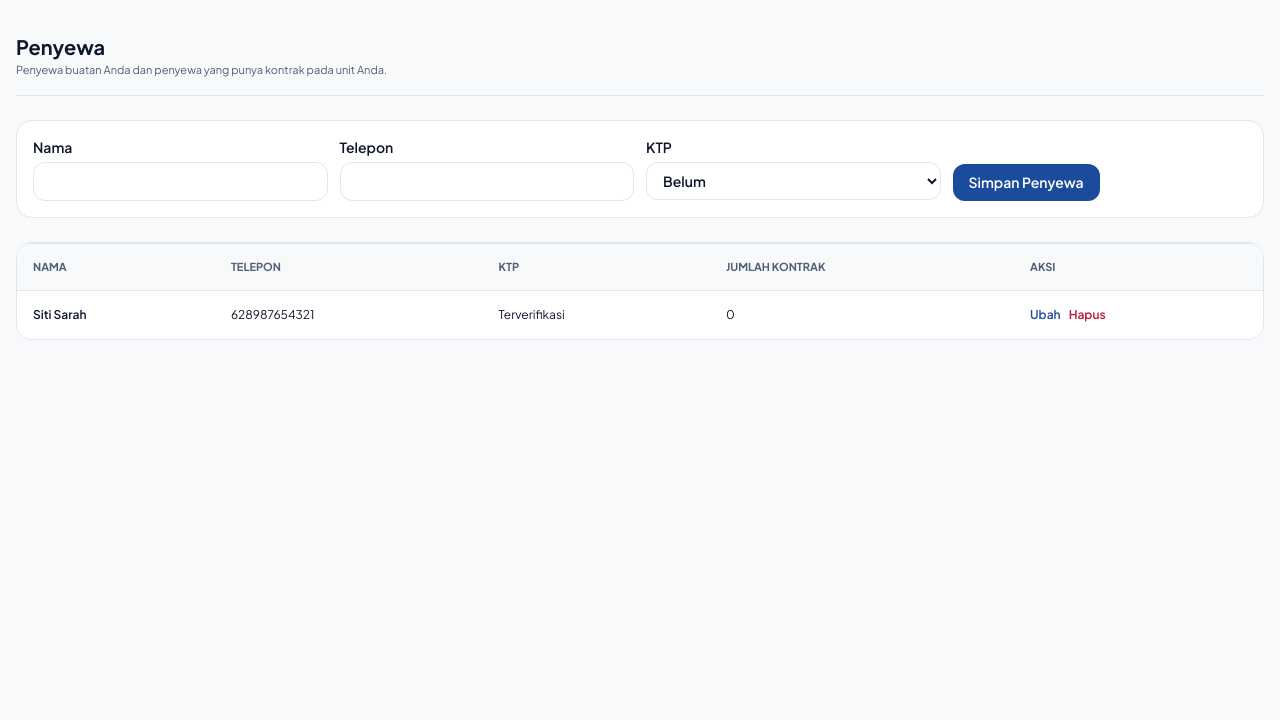
Test: OwnerTenantsPage › menampilkan galat 409 saat penyewa punya kontrak
This screenshot has width=1280, height=720.
Expected: the text "Siti Sarah" is shown, [17,291,215,339]
Click the button "Hapus".
click(1087, 315)  # box [1069,307,1106,323]
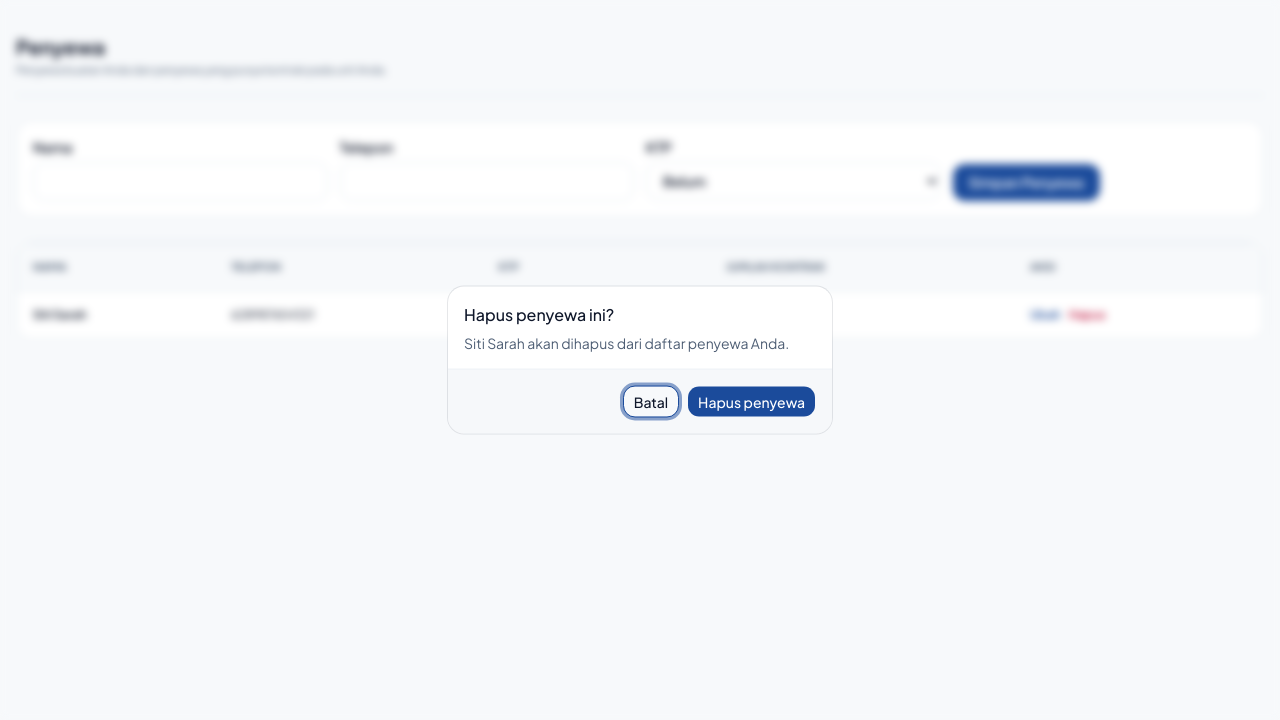
Click the button "Hapus penyewa".
click(752, 402)  # box [687,386,816,418]
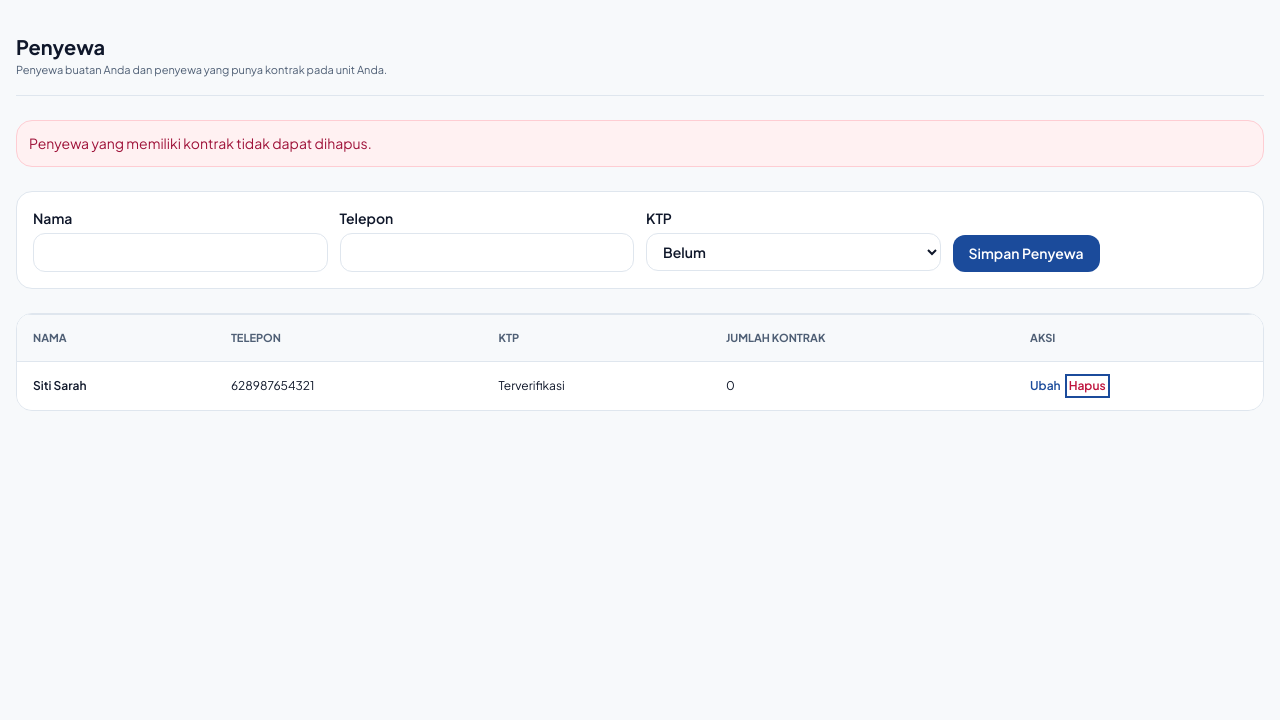
Expected: the message shows "memiliki kontrak", [29,134,372,152]
